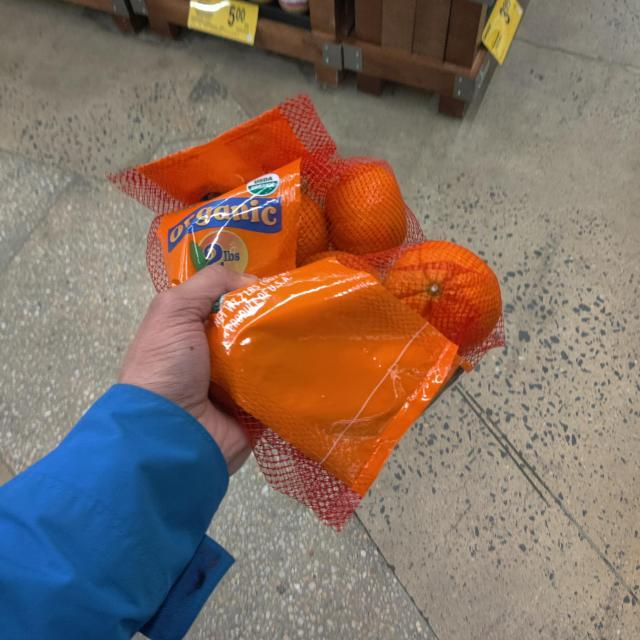Clementine: (108, 92, 502, 470)
